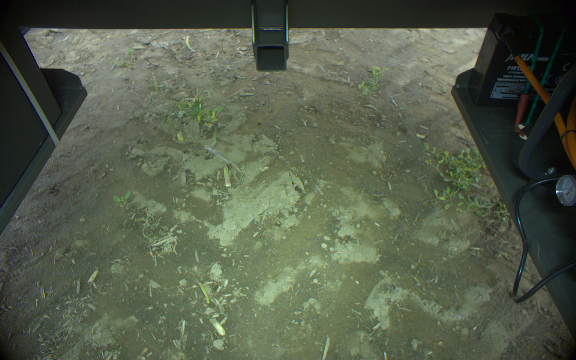aspa: (208, 119, 221, 151)
